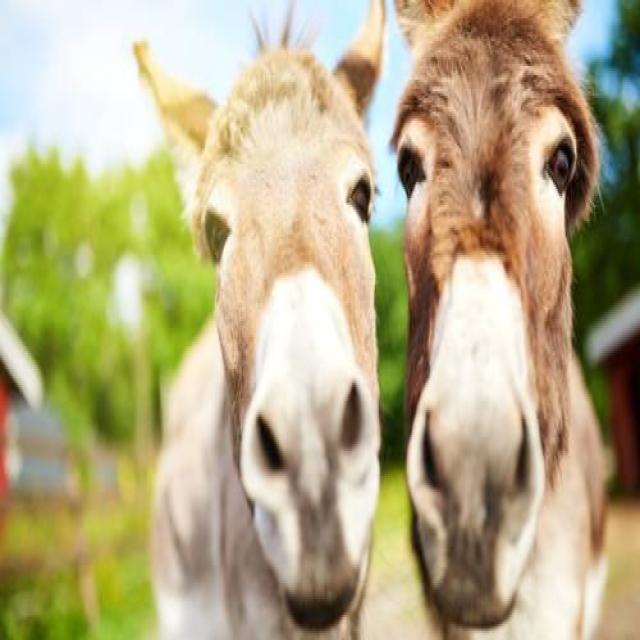Donkey: (133, 2, 384, 640), (392, 0, 610, 640)
